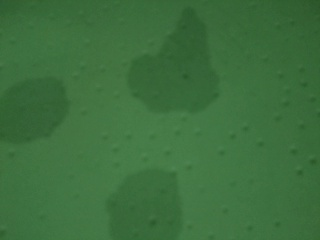Water_detected: (133, 21, 219, 100), (126, 174, 189, 240), (9, 75, 73, 138)
